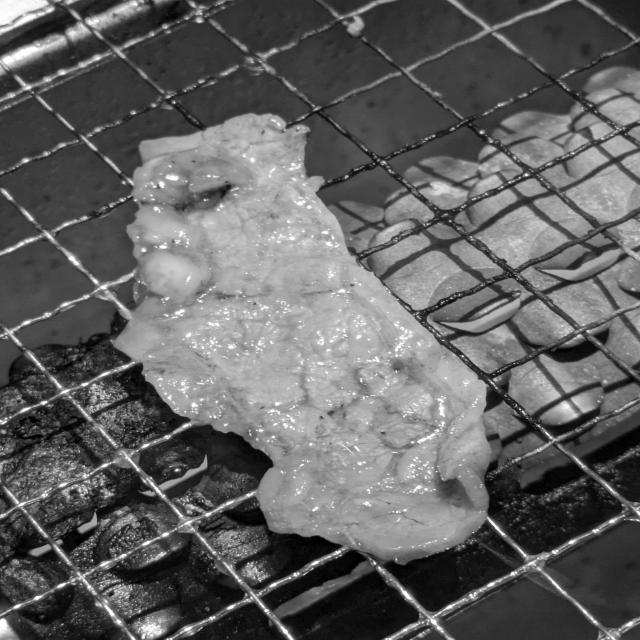OK undercooked beef,: (79, 96, 509, 610)
